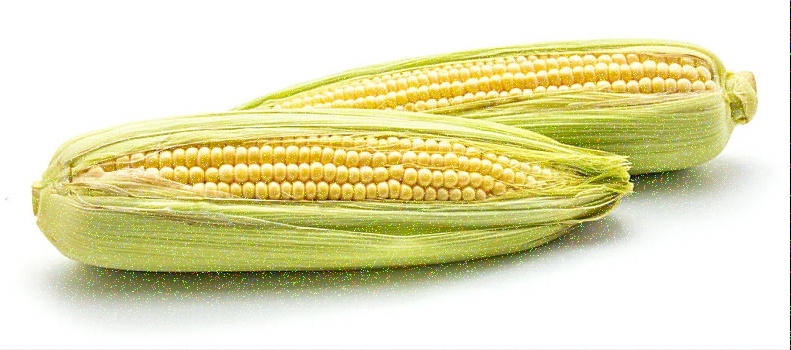corn: (24, 110, 635, 267), (210, 37, 756, 173)
